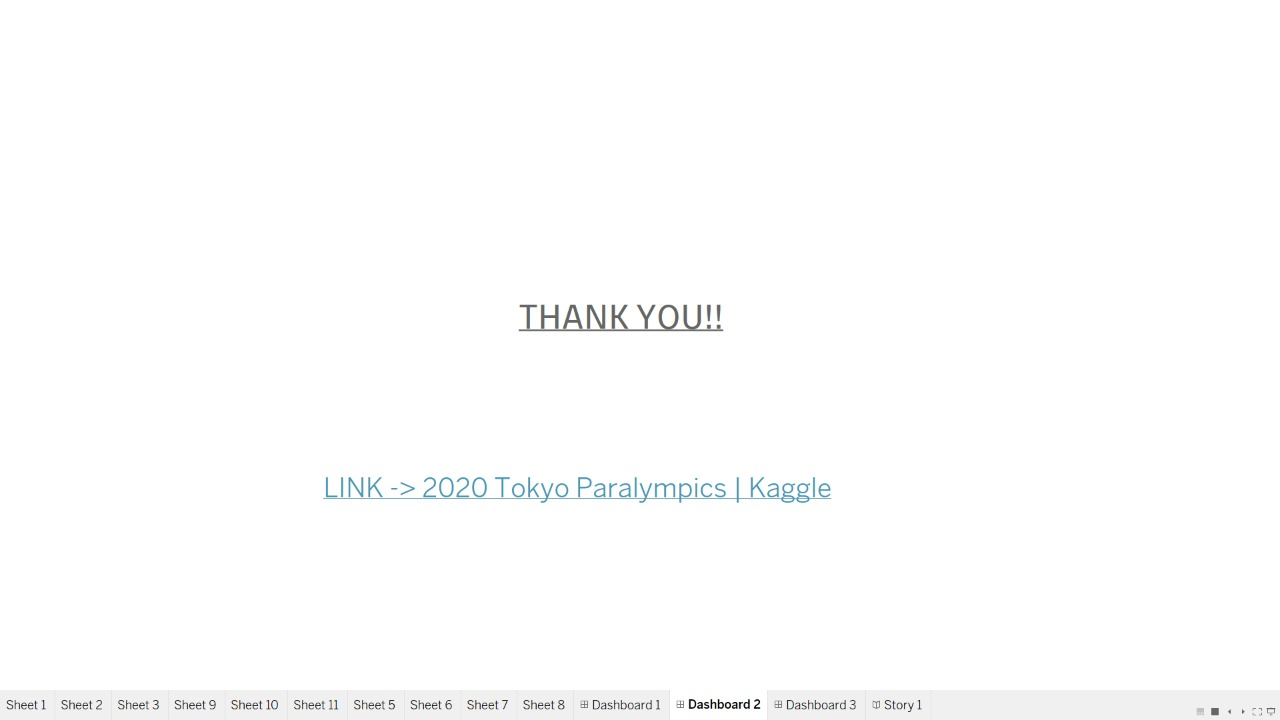

The page's visual inventory and layout, read from the dashboard file:
{"tool":"tableau","page":{"name":"Dashboard 2","canvas":[1000,800],"ordinal":1},"visuals":[{"type":"text","box":[314,308,393,95]},{"type":"text","box":[21,512,856,204]}]}

Visuals, with their boxes on the page's 1000x800 design canvas (x1, y1, x2, y2). These are canvas units, not pixel positions in the 1280x720 screenshot, which may show the page scaled, cropped or inside an application window:
text: {"x1": 314, "y1": 308, "x2": 707, "y2": 403}
text: {"x1": 21, "y1": 512, "x2": 877, "y2": 716}
